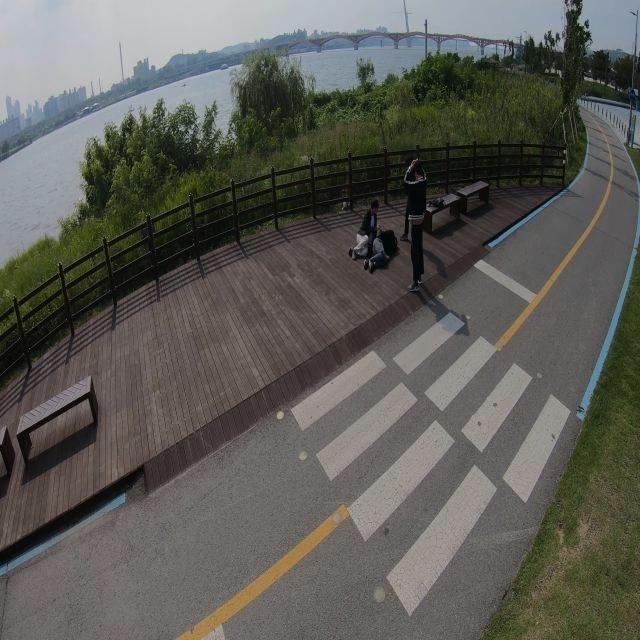non-fight: (401, 156, 428, 289), (348, 197, 382, 263), (363, 228, 400, 274)
